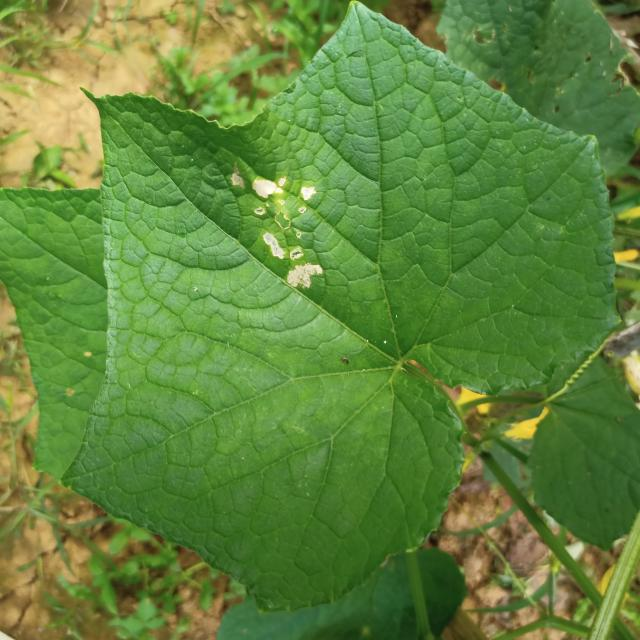disease_cucumber: (230, 162, 327, 298)
